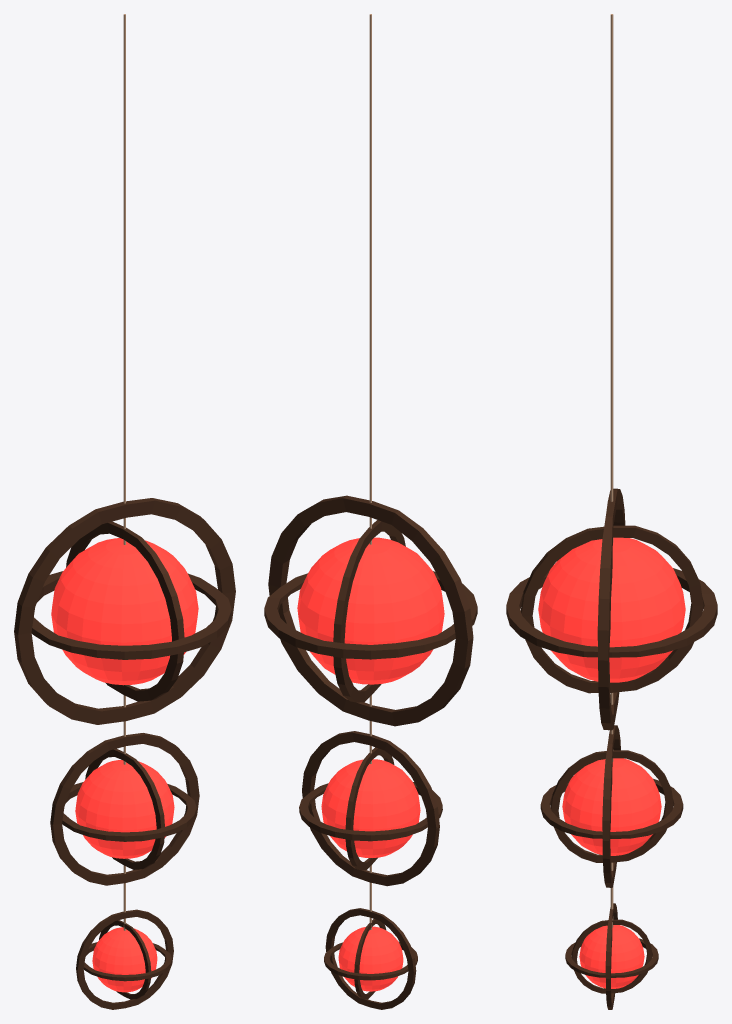
The model's file is Luce 5 Rossa .fbx.
The picture shows the model from 3 angles, left to right: view 1: azimuth 30°, elevation 25°; view 2: azimuth 150°, elevation 25°; view 3: azimuth 270°, elevation 25°; orthographic projection.
Visible parts, largest first — view 1: Sphere.035; view 2: Sphere.035; view 3: Sphere.035.
Part boxes in pixels (left/top/right/bottom): Sphere.035: left=14, top=14, right=235, bottom=1009; Sphere.035: left=264, top=14, right=477, bottom=1009; Sphere.035: left=506, top=14, right=717, bottom=1009.
Bounding box in the file's own units: 61.59 × 279 × 54.08.
